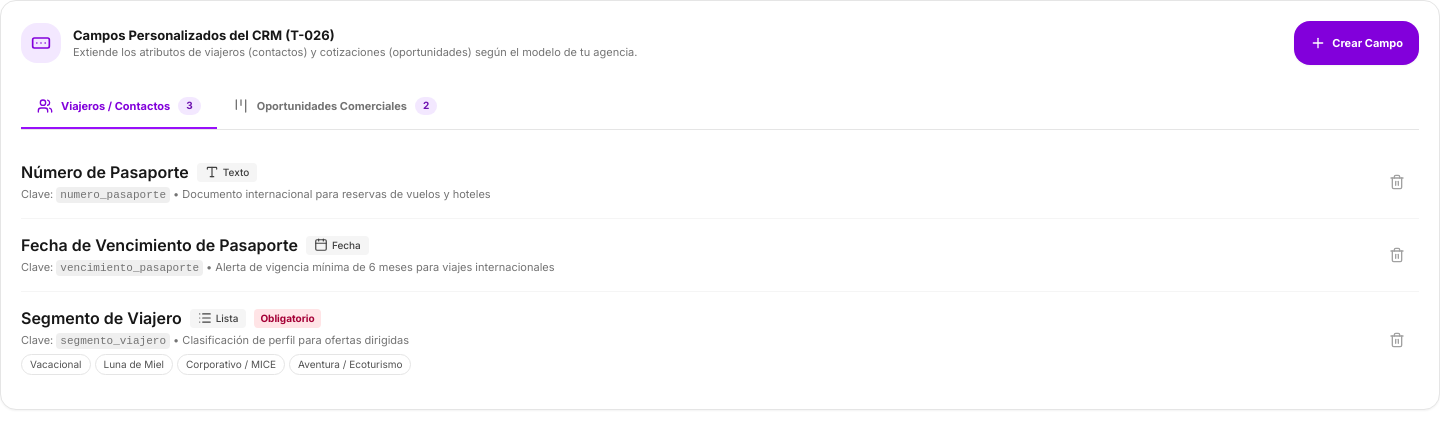
Test: BloqueCamposPersonalizados (T-026) › permite eliminar un campo existente
This screenshot has width=1440, height=427.
Check: the text "Número de Pasaporte" is shown, box [21,160,189,184]
Click the button named "Eliminar campo \"Número de Pasaporte\"" at x=1397, y=182, box [1375,160,1419,204]
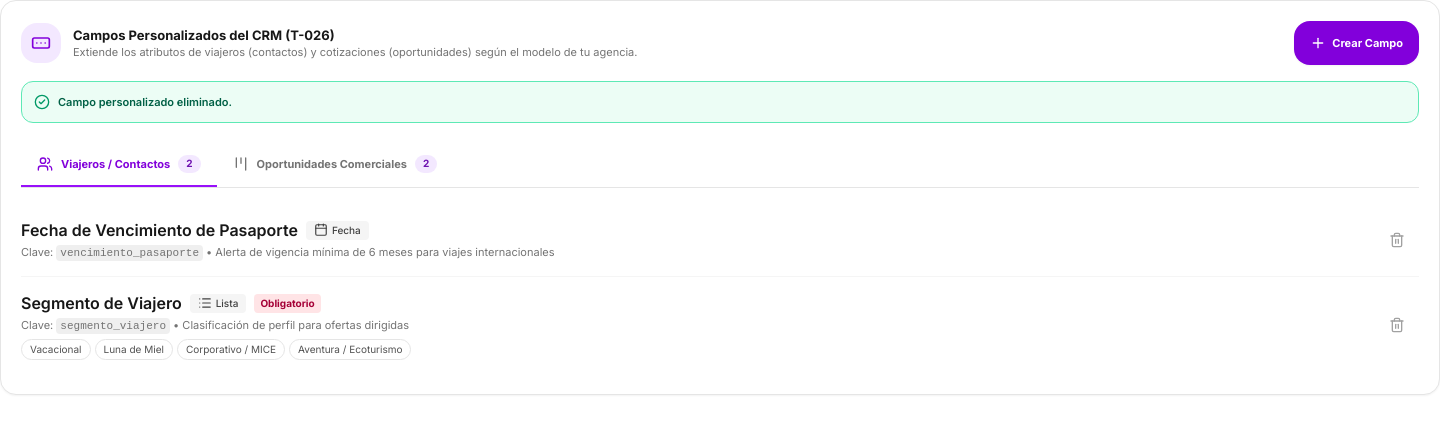
Check: the text "Número de Pasaporte" is gone
